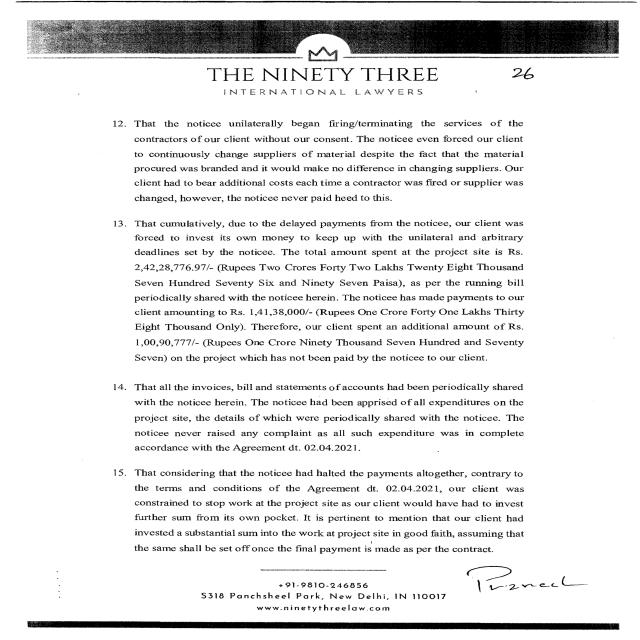page-number: (468, 60, 588, 98)
